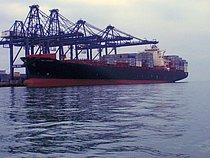Ship: (17, 42, 191, 86)
